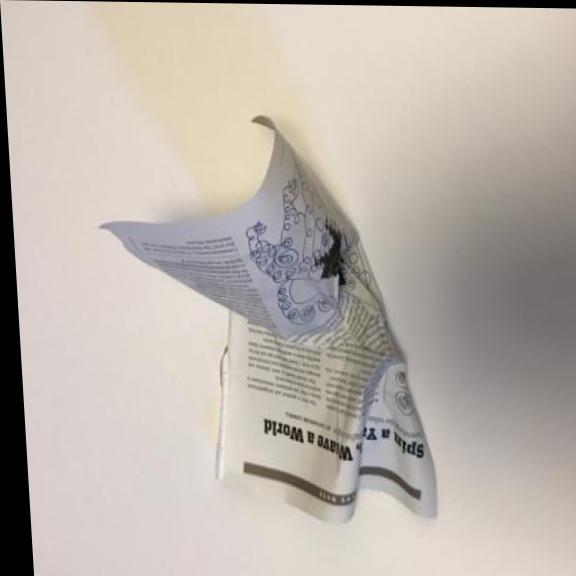Kertas: (80, 108, 447, 537)
